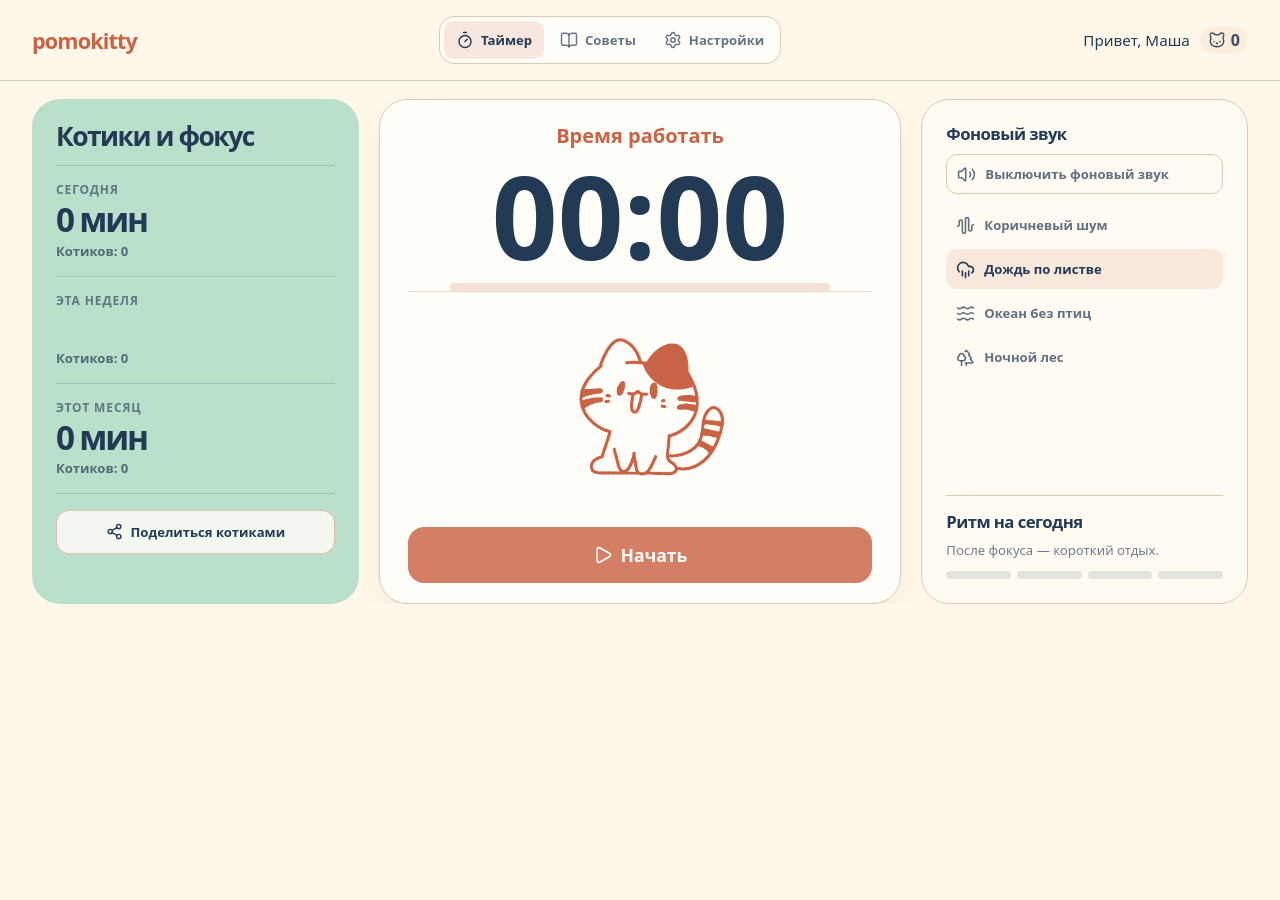
Test case: opens the advice list from navigation
Click the button "Советы": {"x": 598, "y": 40} [548,21,648,59]
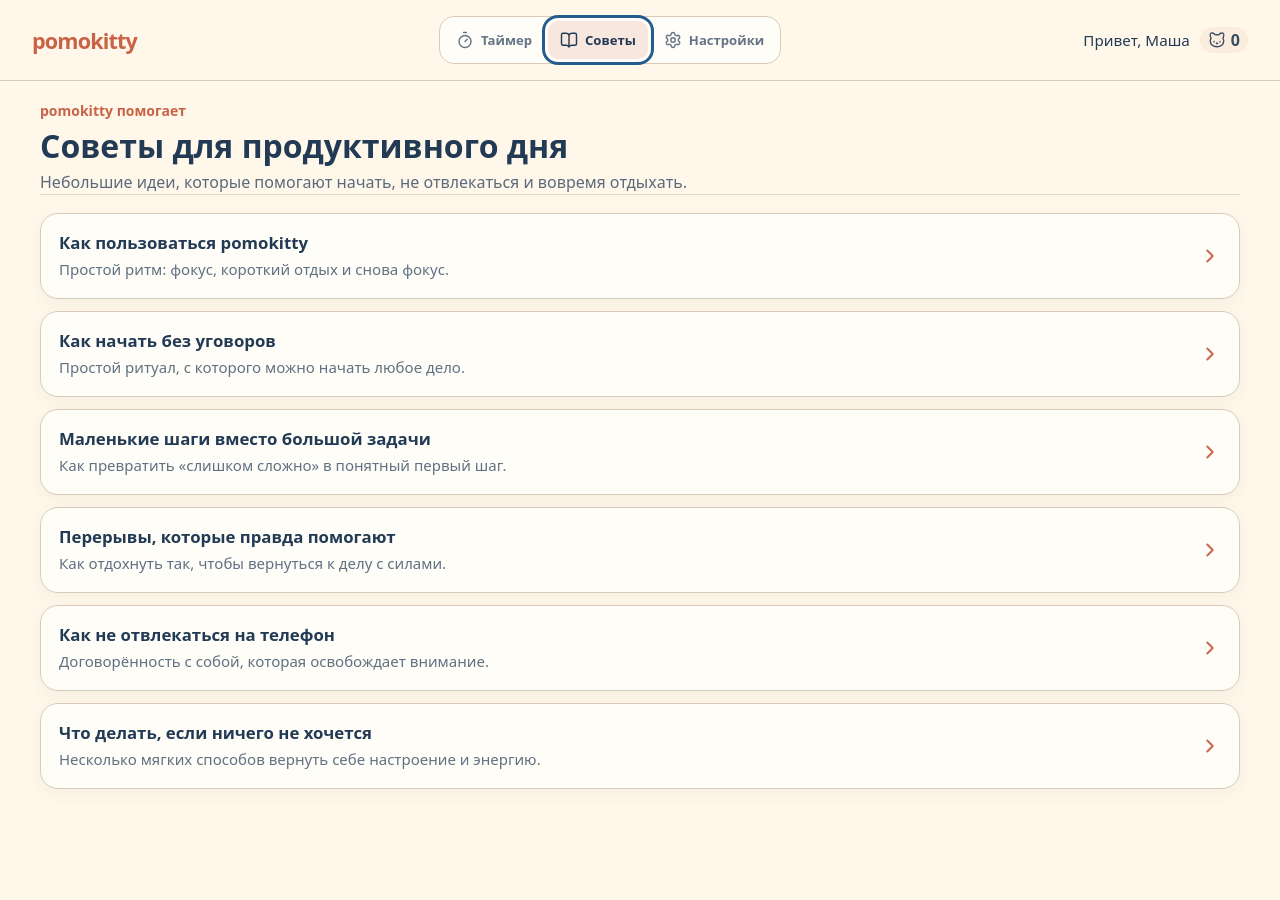
Click the button "Как начать без уговоров": {"x": 167, "y": 341} [40,311,1240,397]
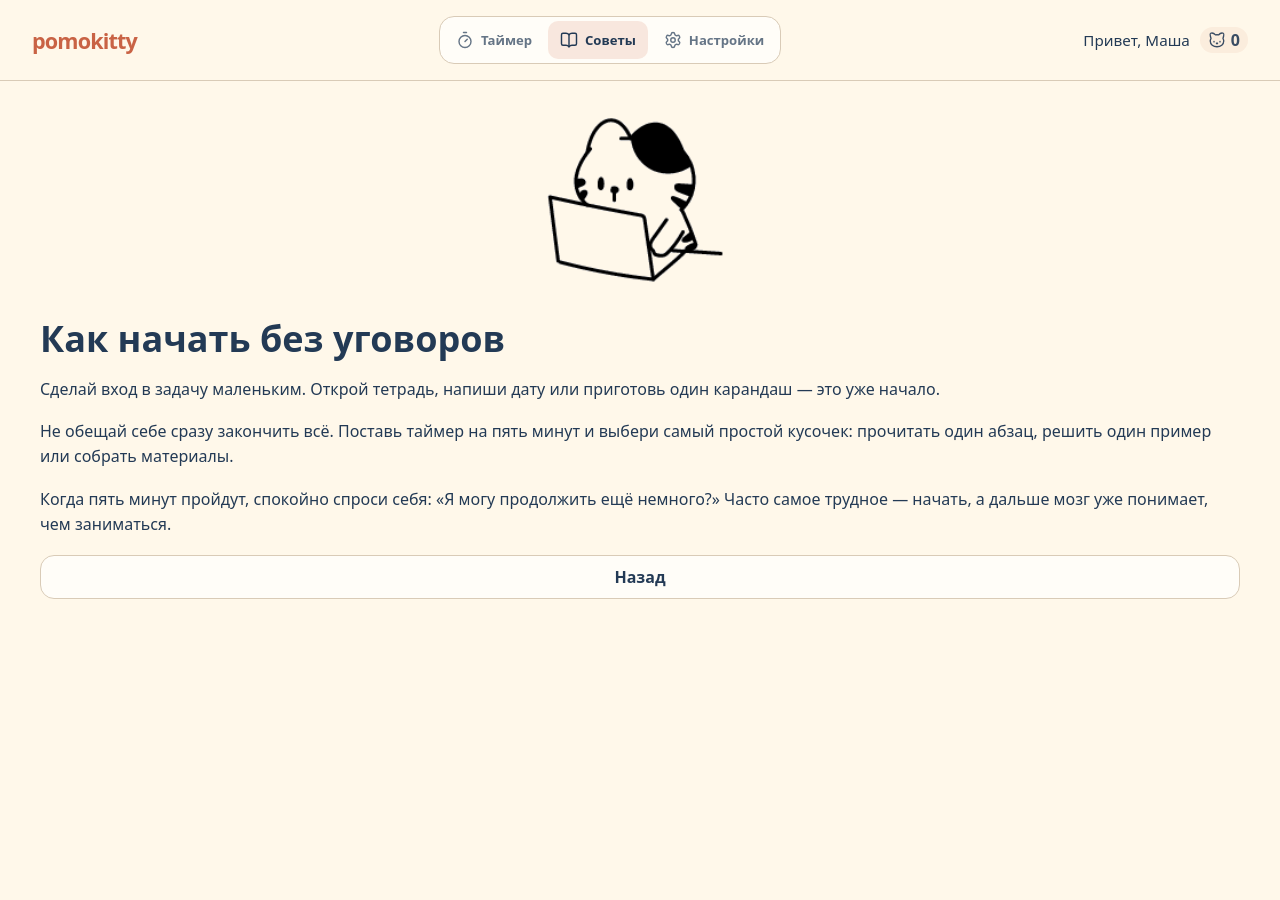
Expected: the heading "Как начать без уговоров" is shown, [40,314,505,363]
Click the button "Назад": {"x": 640, "y": 577} [40,555,1240,599]
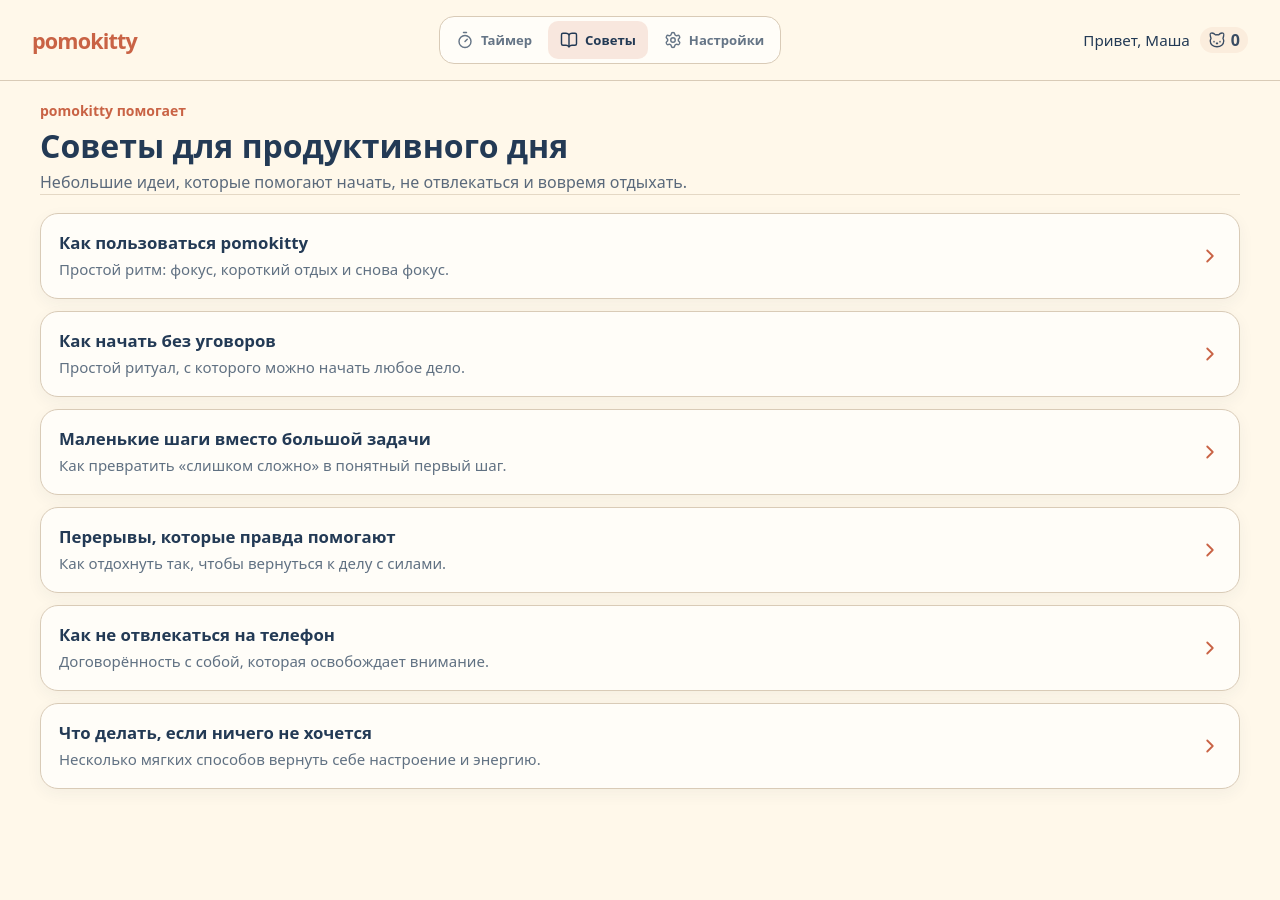
Expected: the heading "Советы для продуктивного дня" is shown, [40,124,568,167]
